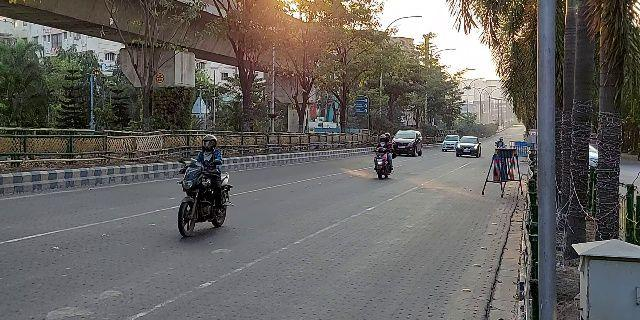Car: (392, 128, 425, 159), (456, 133, 483, 159), (439, 131, 459, 154)
Motorbike: (173, 131, 235, 240), (370, 129, 399, 182)
